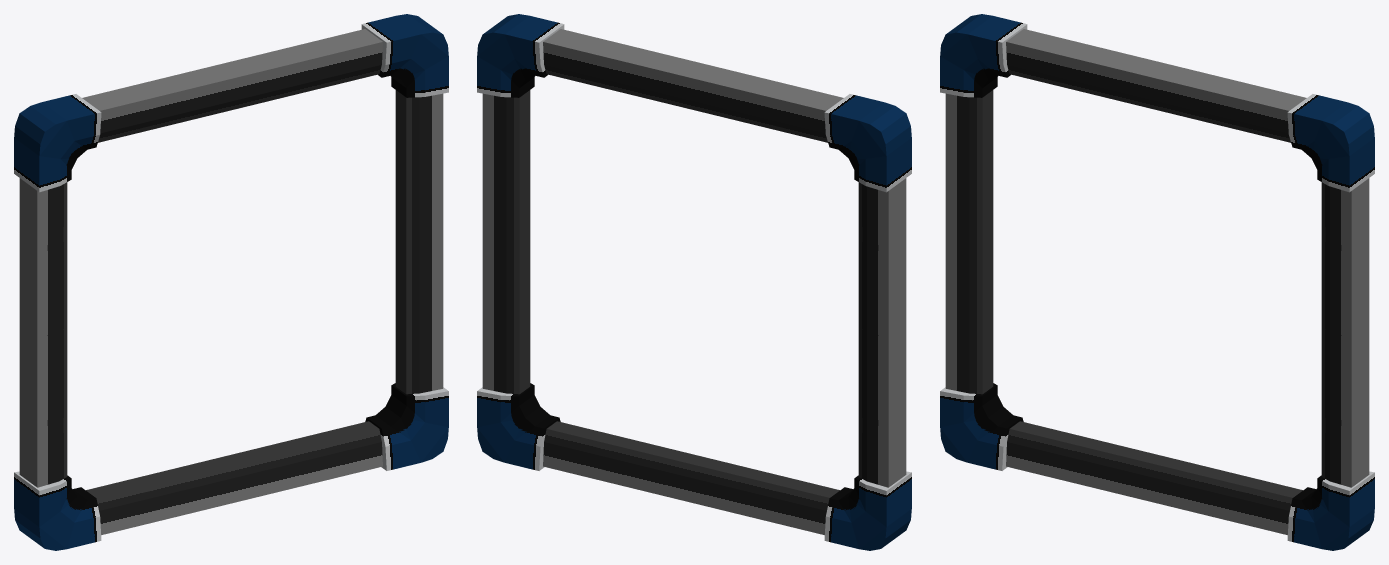
File: frame0.obj
The picture shows the model from 3 angles, left to right: view 1: azimuth 30°, elevation 25°; view 2: azimuth 150°, elevation 25°; view 3: azimuth 330°, elevation 25°; orthographic projection.
Visible parts, largest first — view 1: frame0.obj; view 2: frame0.obj; view 3: frame0.obj.
Boxes of the visible parts, x1,y1,x2,y2 form: frame0.obj: (14, 14, 448, 550); frame0.obj: (477, 14, 911, 550); frame0.obj: (940, 14, 1374, 550).
Size of the model in its own units: 1.21 by 1.21 by 0.1295.
